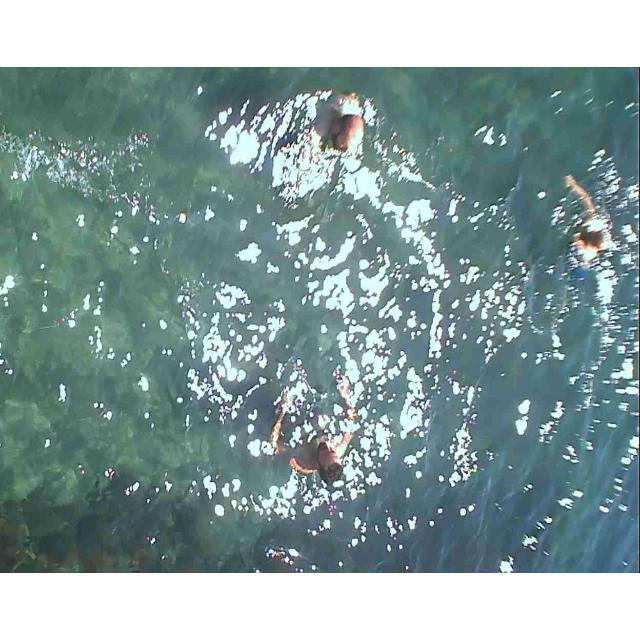human: (277, 377, 366, 489), (557, 166, 608, 287), (303, 82, 371, 172)
